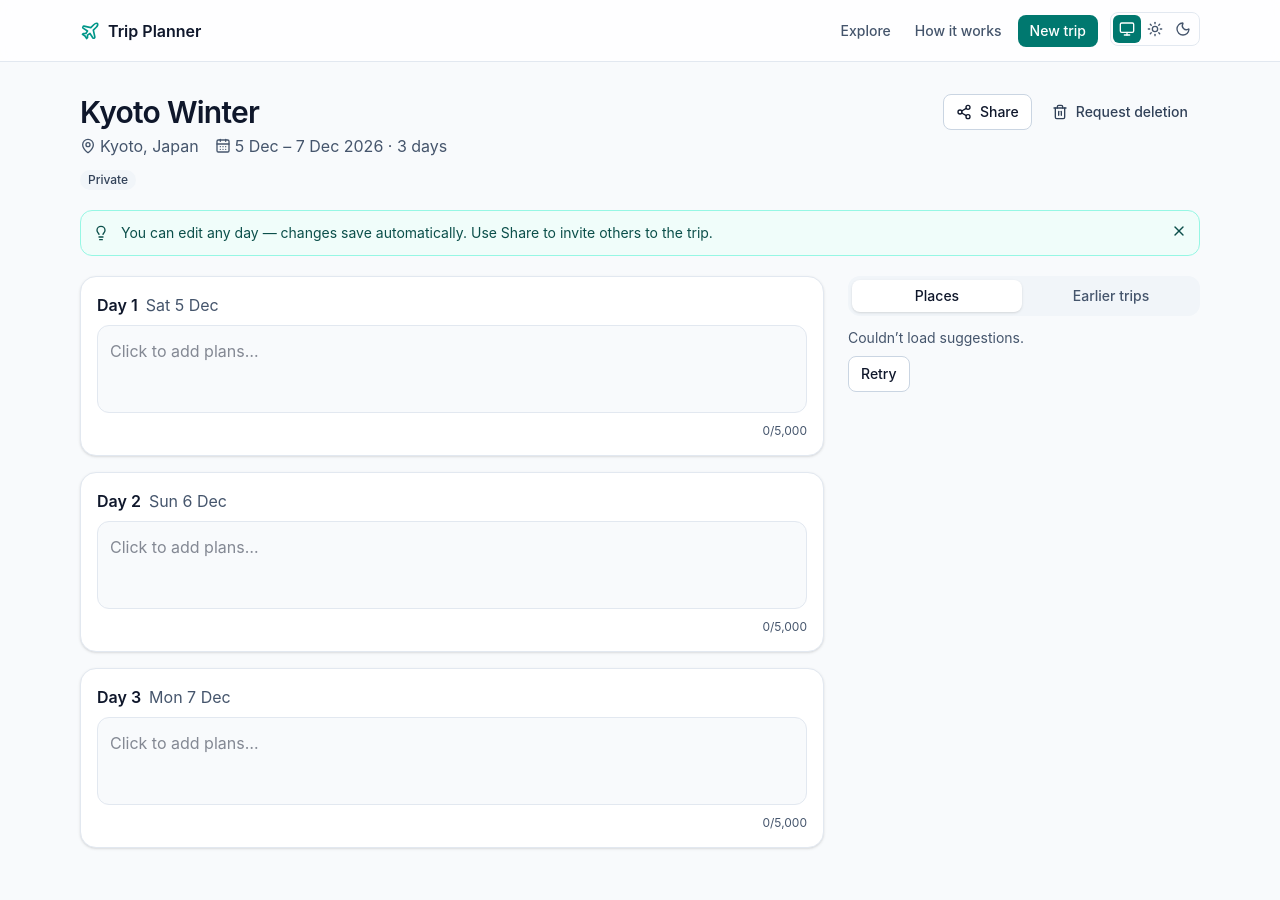
it: TripPage — delete requests › editor can request deletion (AC8.1)
Click the button "Request deletion". click: (1120, 112)
box: [1040,94,1200,130]
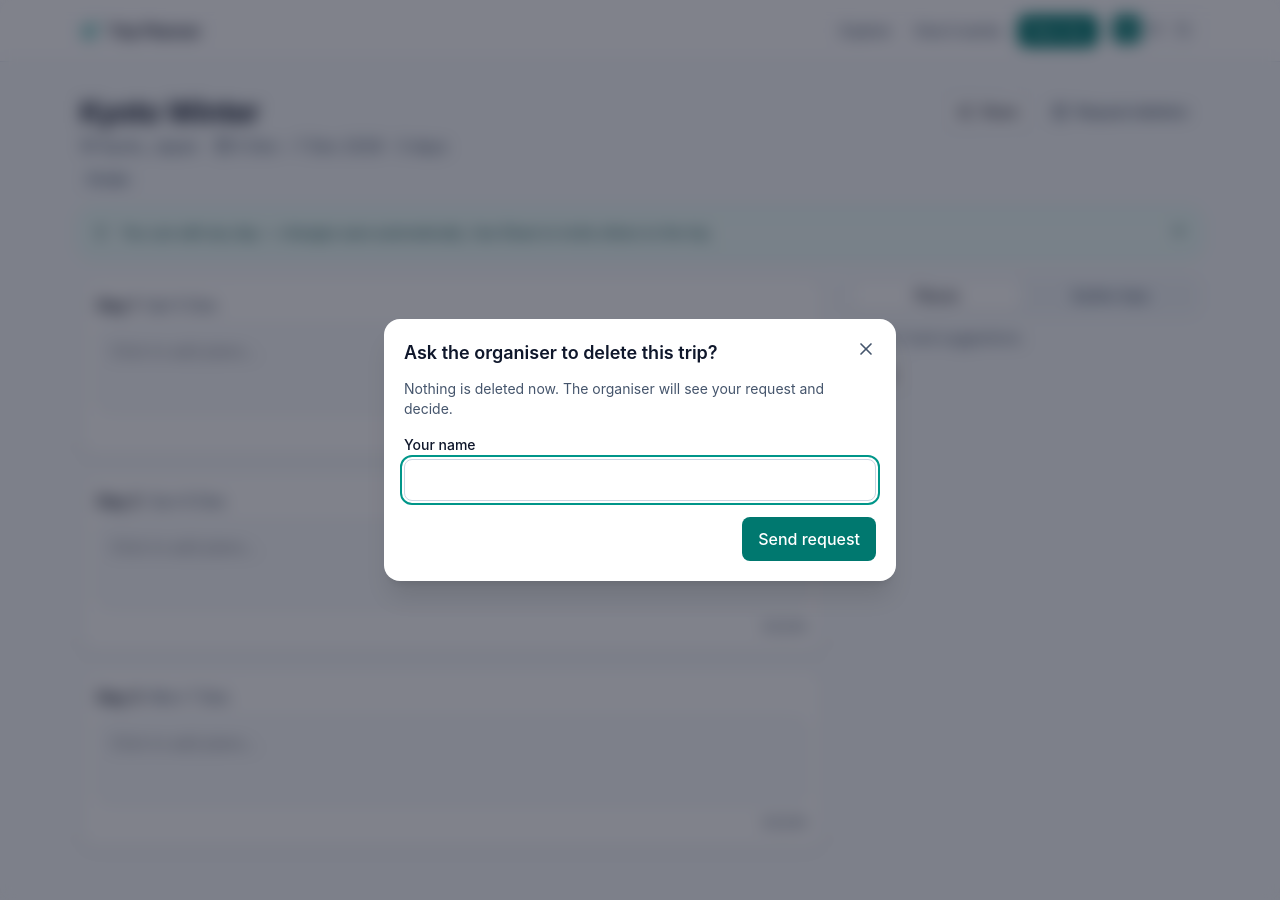
Type "Ravi" into the field labelled "Your name". click: (640, 480)
box: [404,459,876,501]
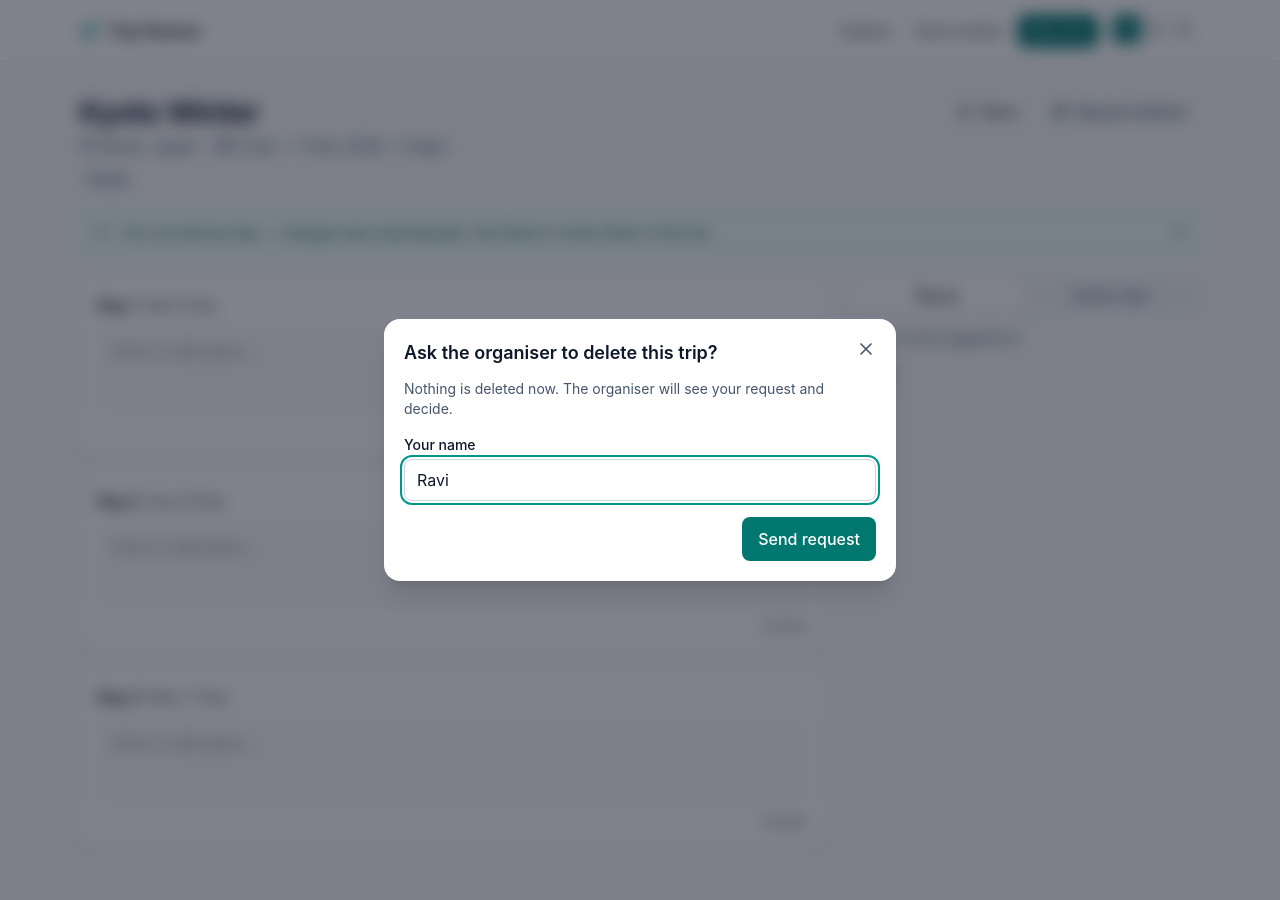
Click the button "Send request". click: (809, 539)
box: [742,517,876,561]
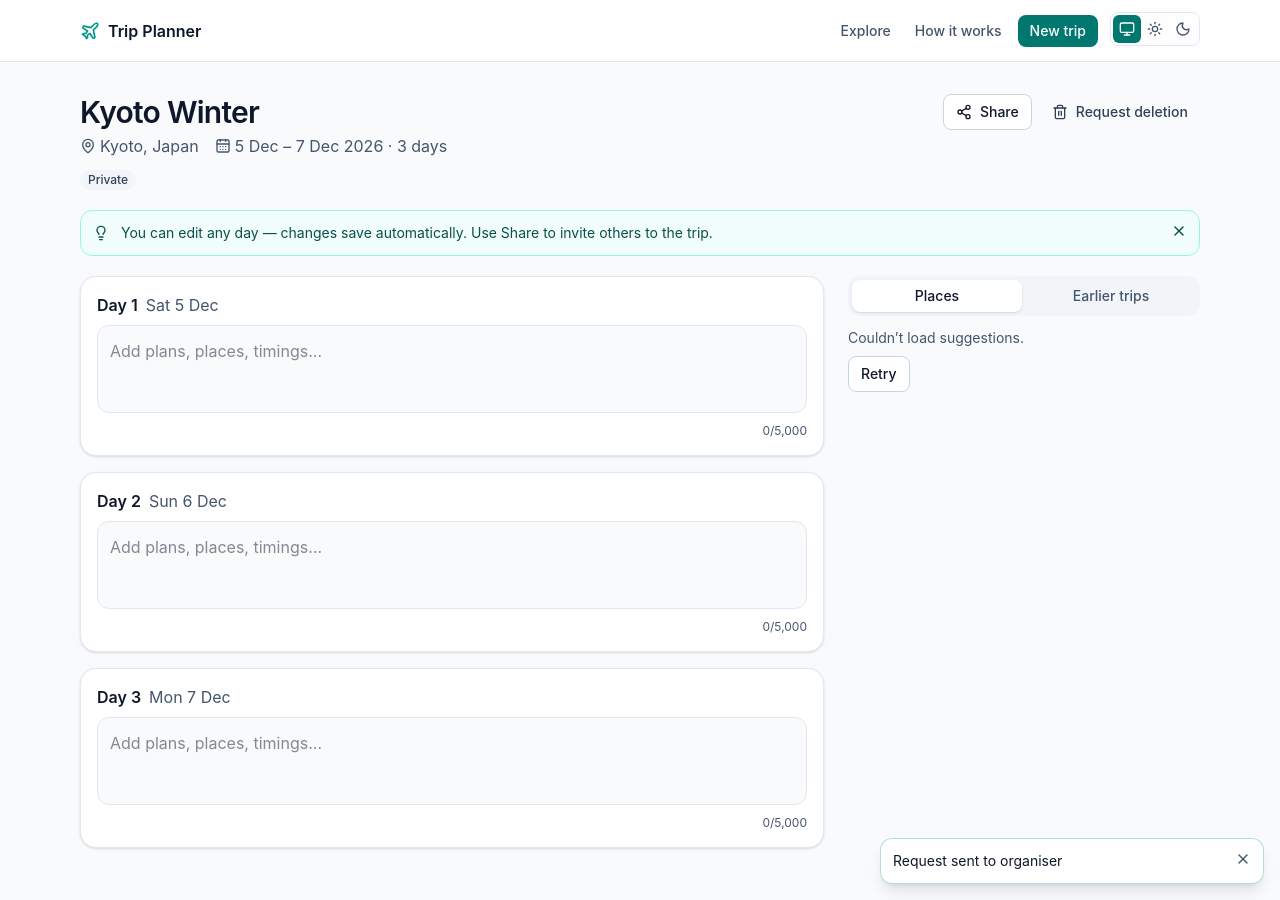
Now the text "Request sent to organiser" is shown, box [893,852,1062,869]
